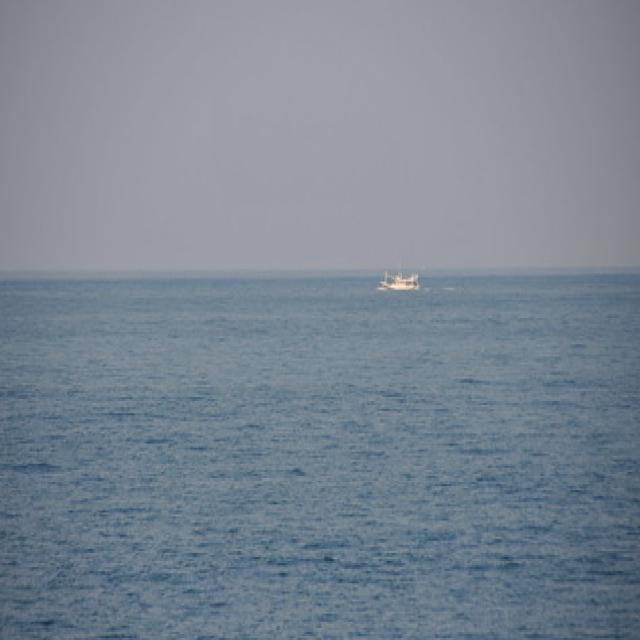fishing boat: (375, 261, 432, 309)
